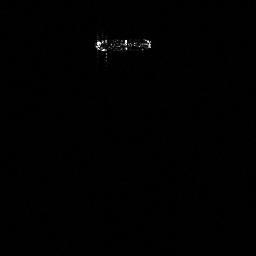ship: (91, 34, 154, 55)
